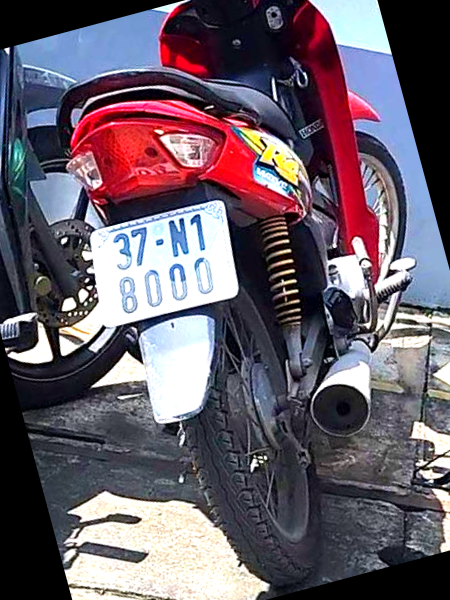number: (90, 199, 240, 322)
